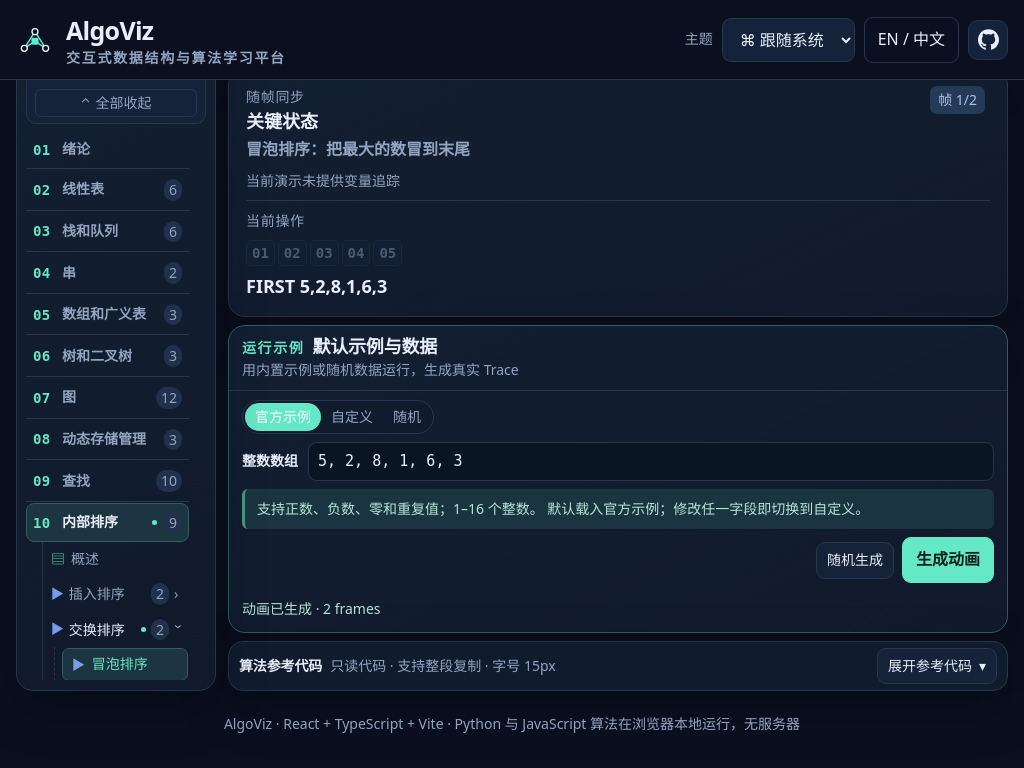
Test: INPUT-01 custom inputs really execute › clears the old trace and does not execute malformed input
(page scrolled)
Replace the text in the text box with test id "run-input" with "8, nope, 5" at (651, 462), box [308,442,994,481]
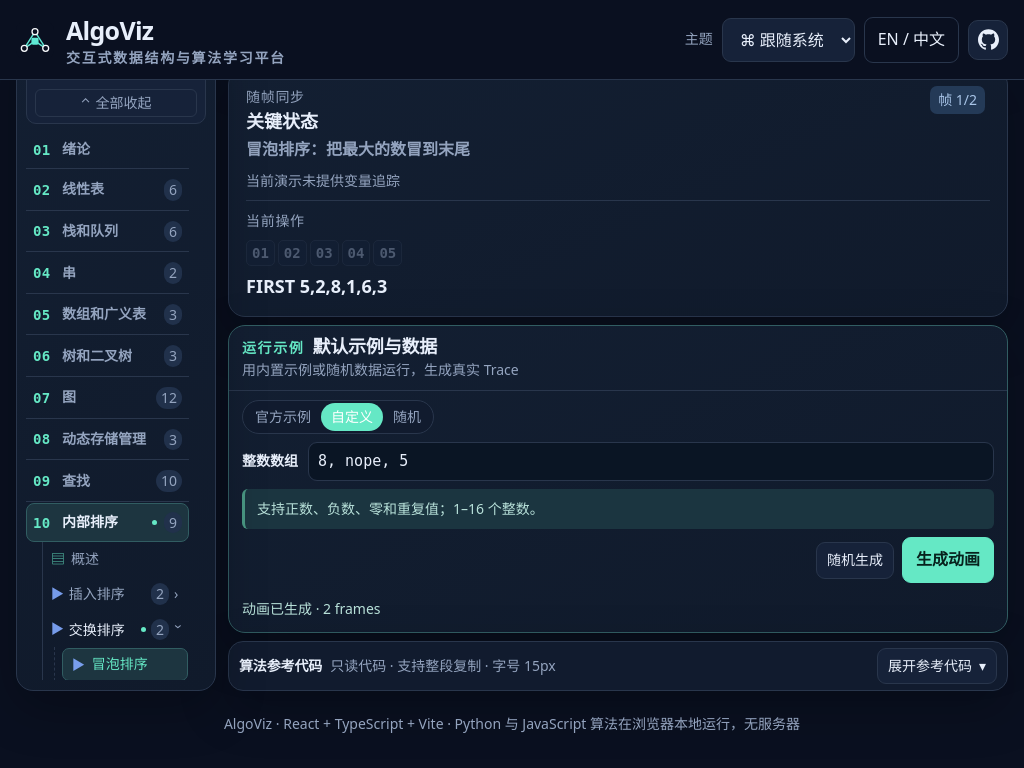
Click the button with test id "run-btn" at (948, 560), box [902,537,994,583]
(page scrolled)
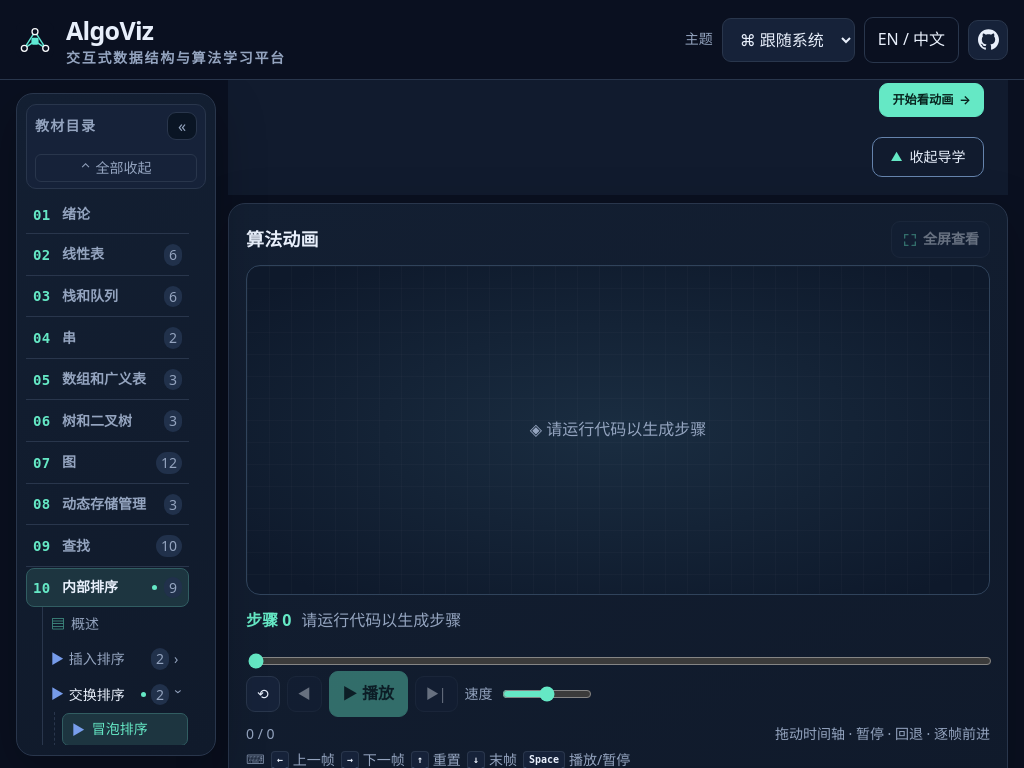
Expected: the text with test id "progress" reads "0 / 0", [246,724,274,743]
Expected: the text "◈ 请运行代码以生成步骤" is shown, [530,418,706,440]
